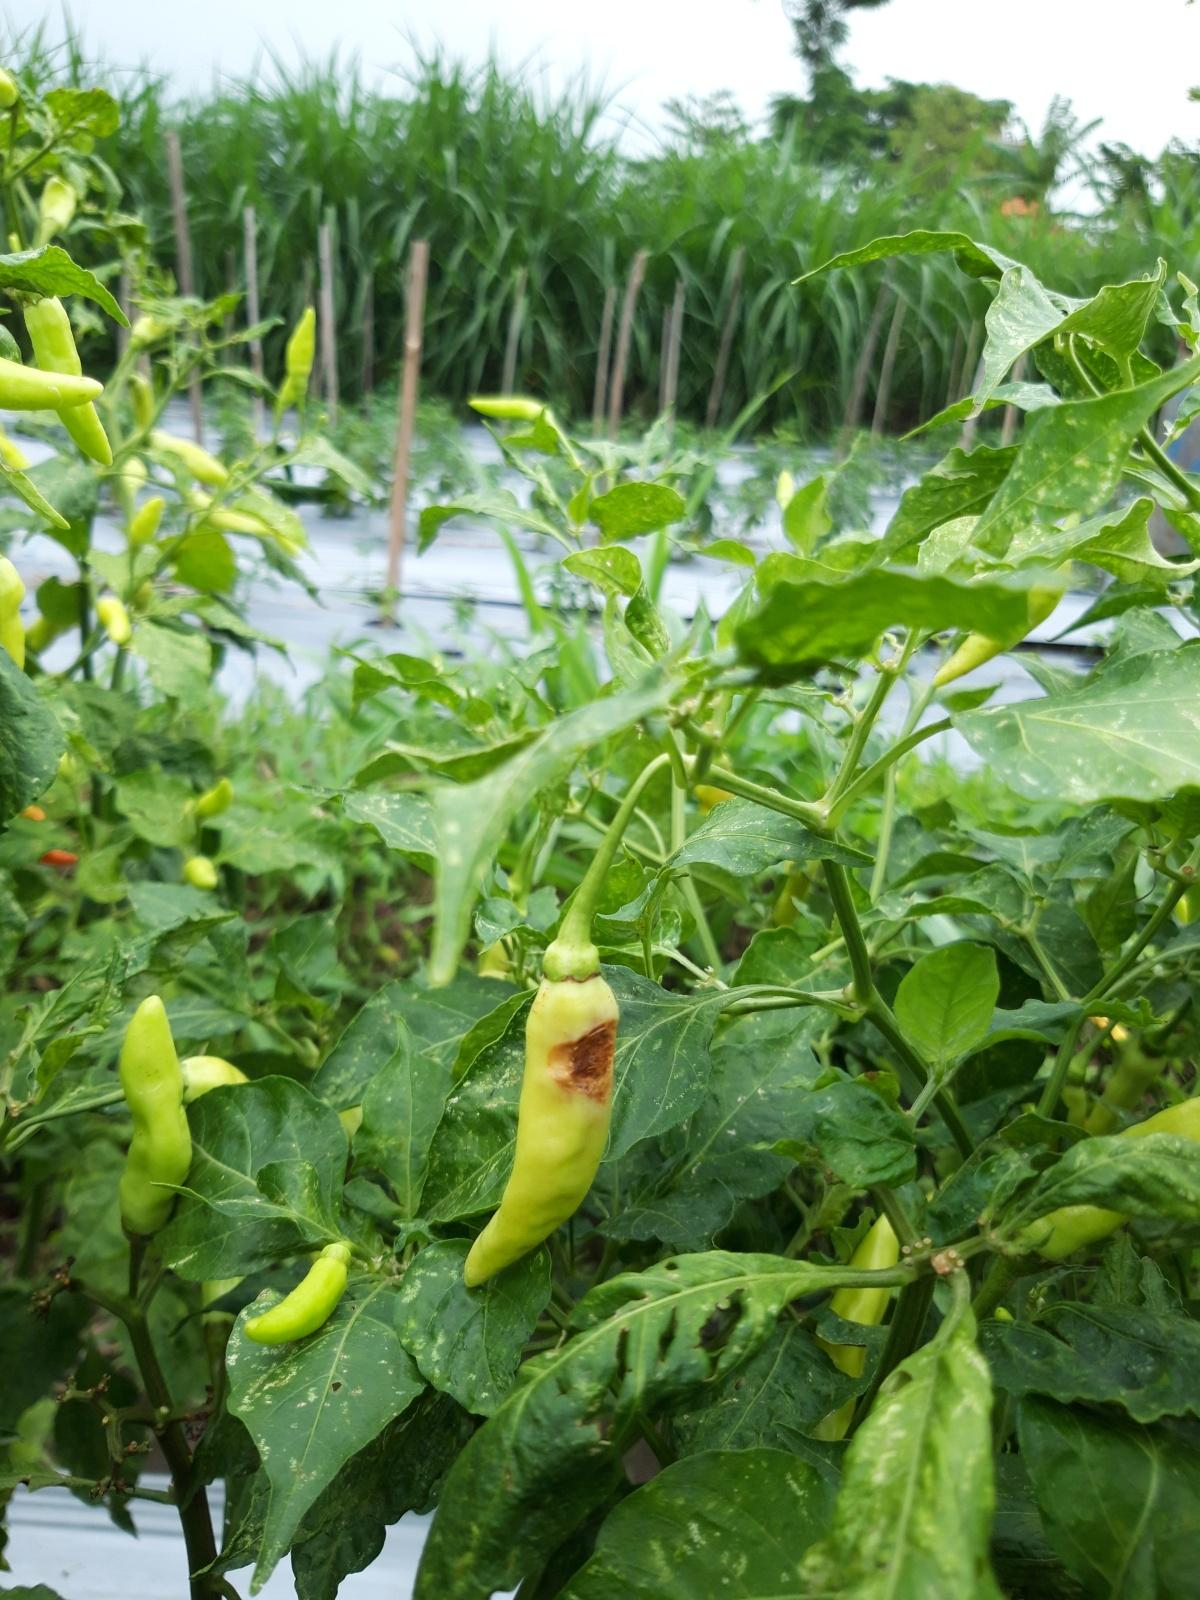cabai_normal: (117, 993, 192, 1243), (25, 292, 113, 466), (245, 1241, 349, 1346), (285, 307, 316, 406), (468, 393, 547, 421)
lalat_buah: (464, 950, 616, 1290)
